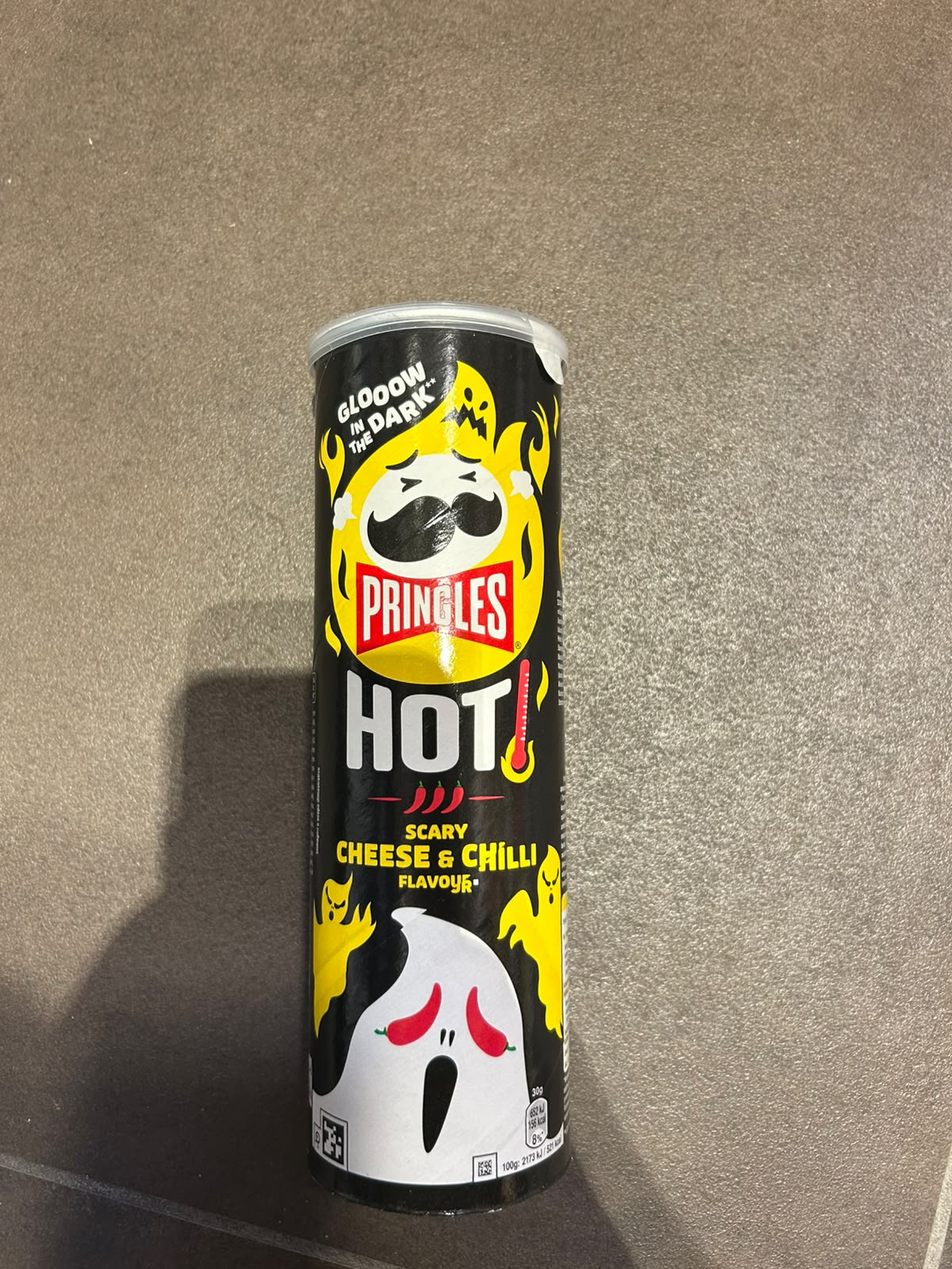can: (291, 304, 594, 1225)
